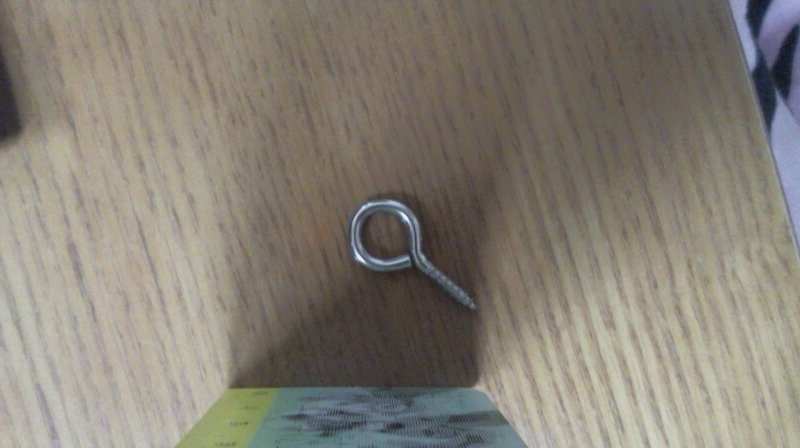O001: (344, 193, 481, 317)
